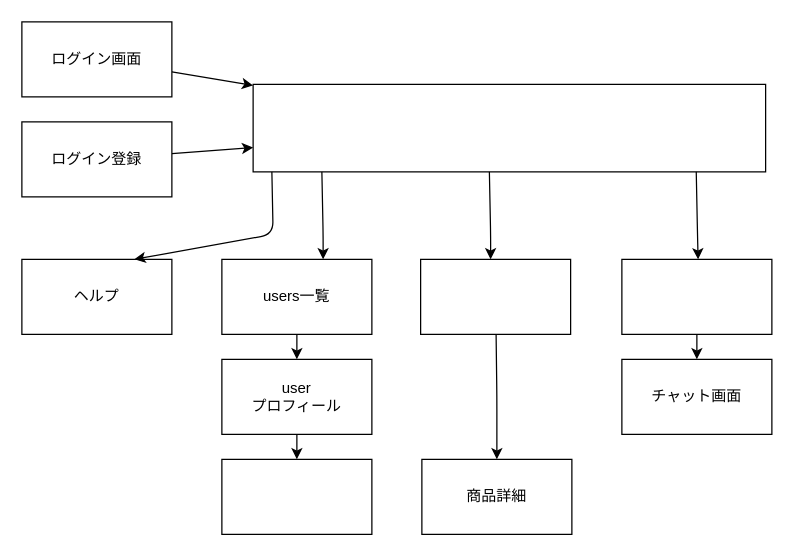
This 794x556 diagram has some shape labels left out. Each missing label, with the box of its shape:
items一覧: (419, 258, 571, 334)
saved一覧: (621, 258, 772, 334)
user 商品詳細: (221, 458, 372, 534)
プロフィール: (252, 83, 766, 172)
